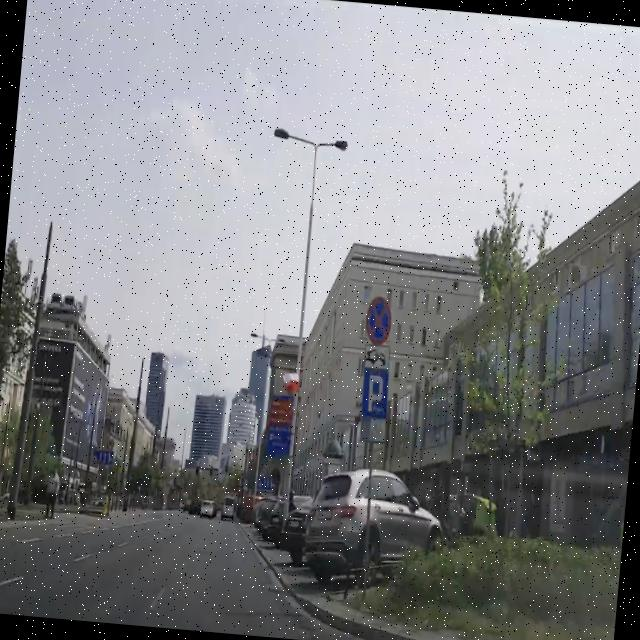Zakaz zatrzymywania sie: (364, 293, 394, 344)
